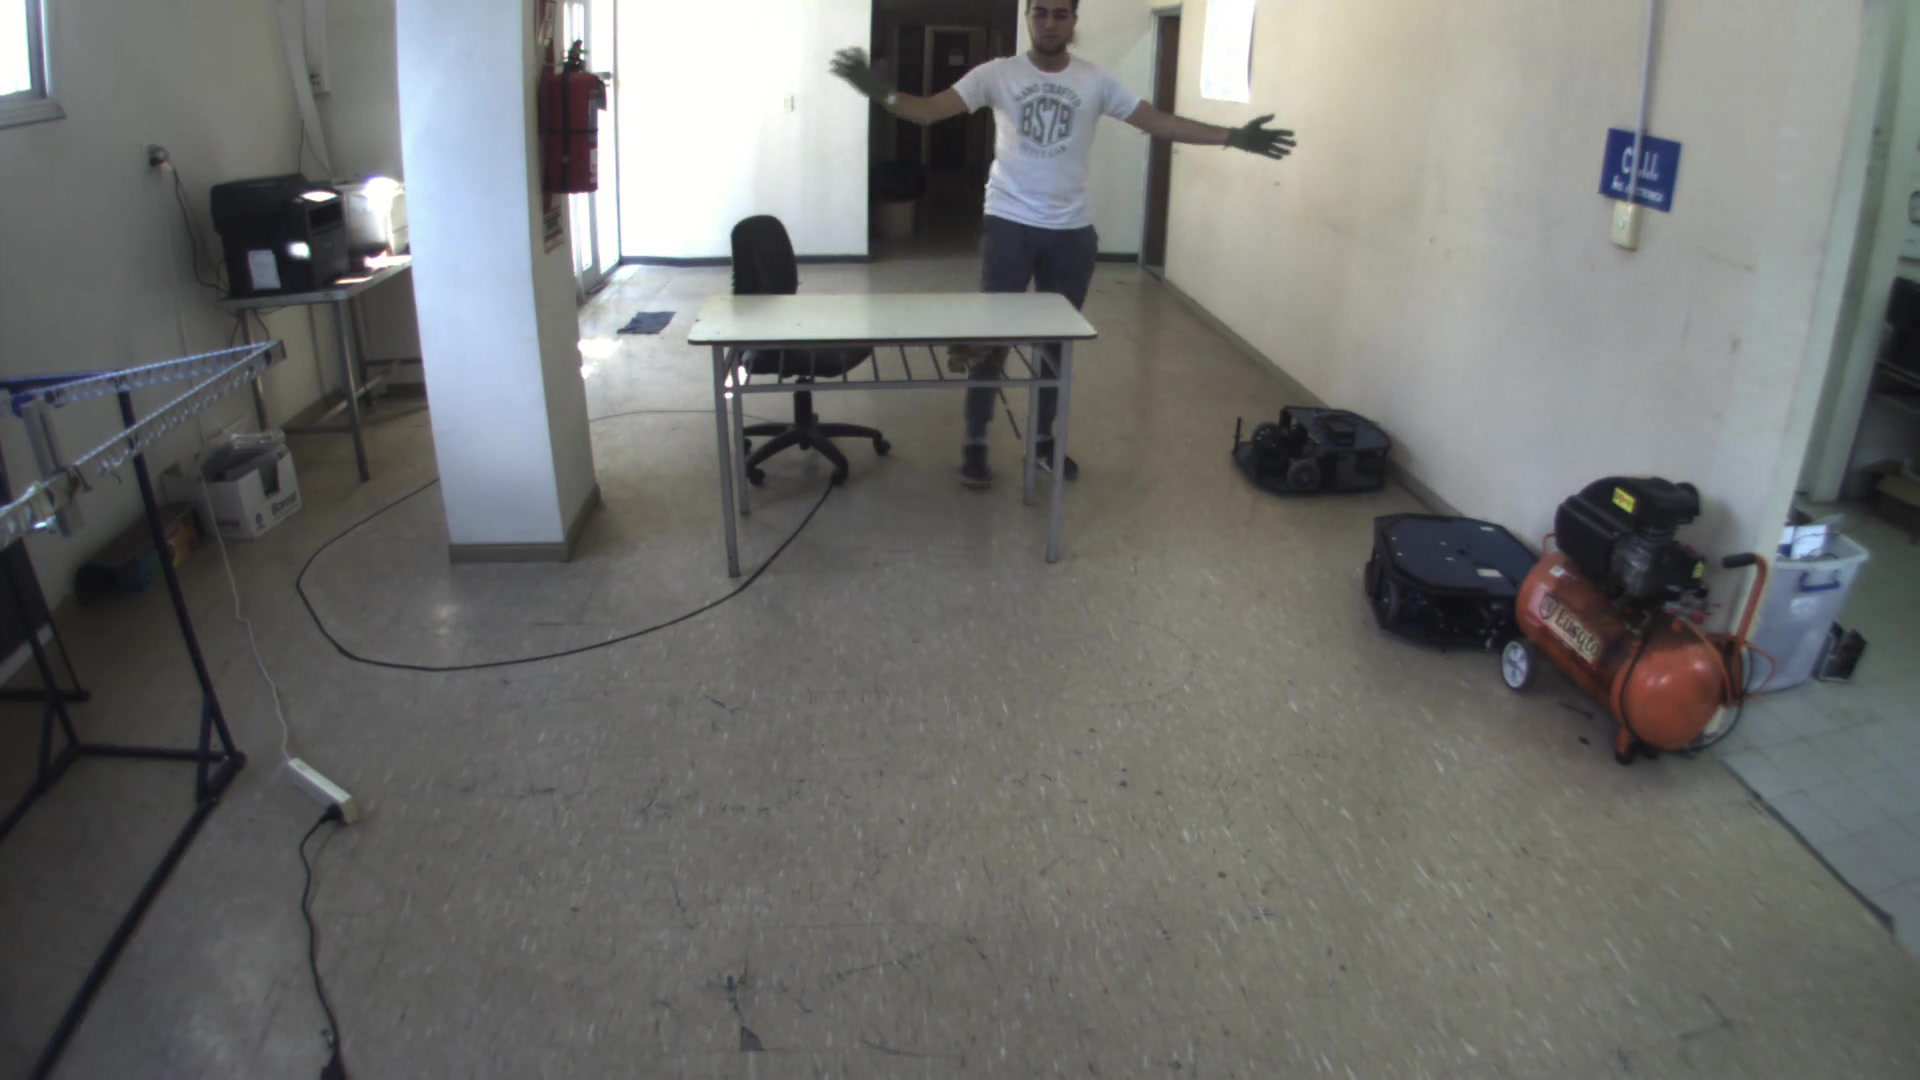hand: (1220, 105, 1308, 171), (822, 42, 894, 109)
